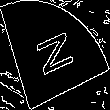N_W: (31, 27, 79, 83)
